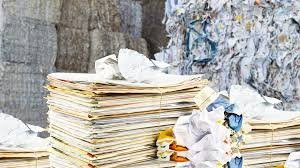paper: (94, 41, 197, 88), (169, 104, 235, 168), (227, 83, 297, 122)
